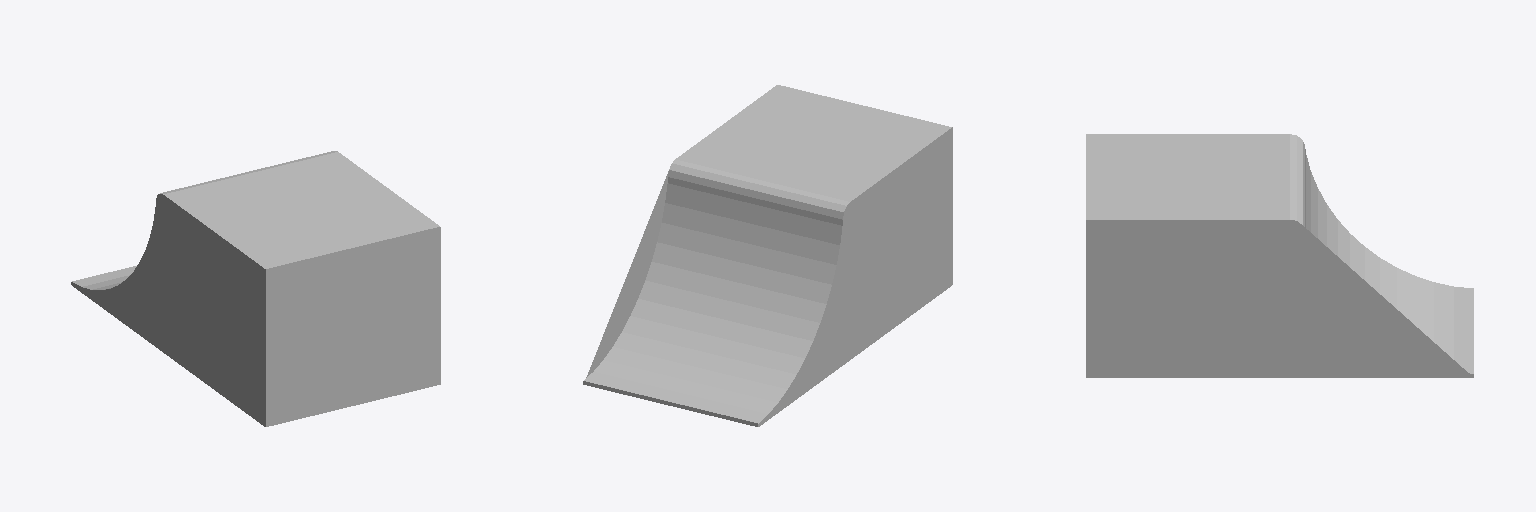
Rendered from Ramp.obj.
The picture shows the model from 3 angles: view 1: azimuth 30°, elevation 25°; view 2: azimuth 150°, elevation 25°; view 3: azimuth 270°, elevation 25°; orthographic projection.
Parts seen in each view (by area): view 1: ramp; view 2: ramp; view 3: ramp.
Boxes of the visible parts, x1=… form: ramp: x1=71, y1=151, x2=440, y2=426; ramp: x1=583, y1=85, x2=952, y2=426; ramp: x1=1086, y1=134, x2=1473, y2=377.
Size of the model in its own units: 4.08 by 3.53 by 7.84.